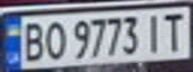3: (121, 12, 145, 56)
7: (87, 16, 106, 58), (106, 14, 124, 56)
9: (69, 16, 90, 60)
B: (18, 19, 48, 63)
I: (142, 10, 166, 54)
O: (42, 18, 69, 62)
T: (157, 9, 190, 53)
